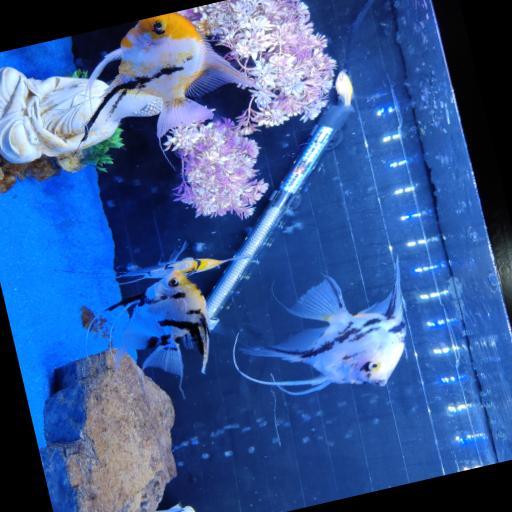Fish: (232, 259, 405, 394), (82, 12, 252, 139), (105, 269, 208, 394), (116, 241, 251, 283), (334, 69, 352, 107)
